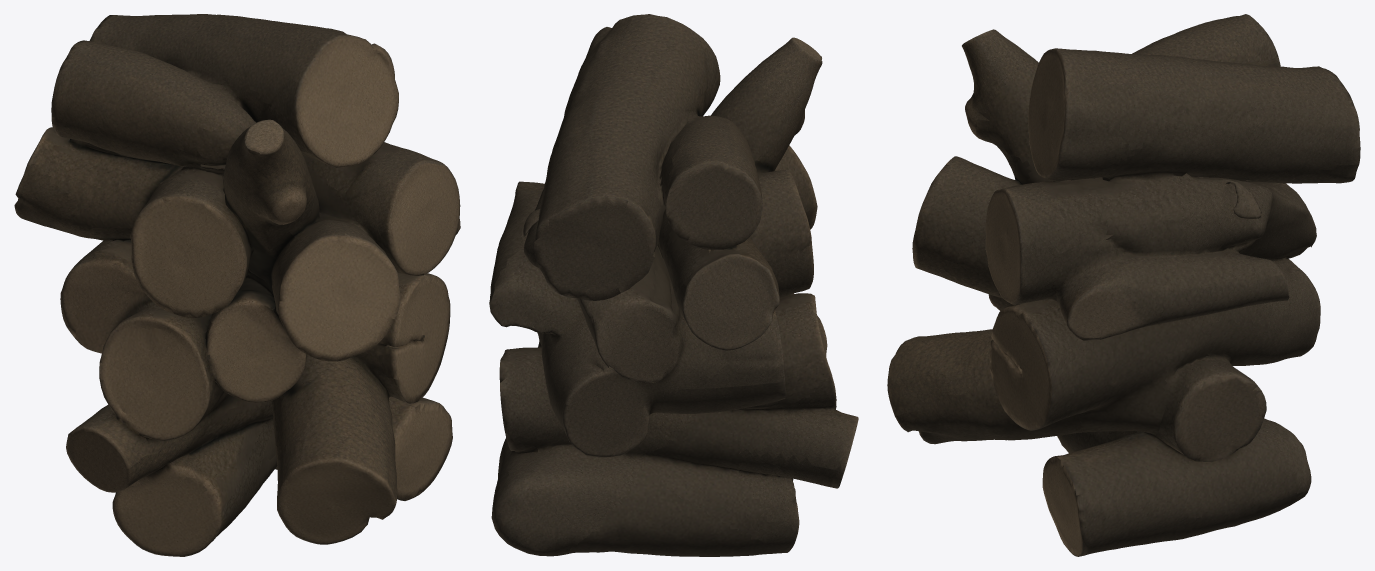
File: camp_firewood.glb
3 renders of one model, left to right at view 1: azimuth 30°, elevation 25°; view 2: azimuth 150°, elevation 25°; view 3: azimuth 270°, elevation 25°, orthographic. The views are drawn at different scales.
Visible parts, largest first — view 1: mesh_node; view 2: mesh_node; view 3: mesh_node.
Part boxes in pixels (x1=…): mesh_node: x1=14, y1=14, x2=460, y2=556; mesh_node: x1=489, y1=14, x2=858, y2=556; mesh_node: x1=887, y1=14, x2=1360, y2=556.
Bounding box in the file's own units: 1.53 × 2 × 1.82.
1 material, 1 textured.
